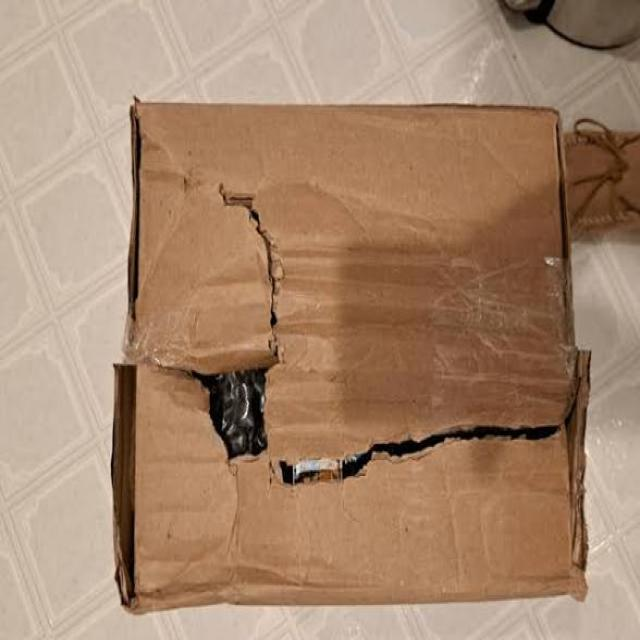carton_box: (103, 86, 604, 612)
package_damage: (150, 154, 589, 527), (538, 98, 605, 607), (106, 88, 168, 614)
